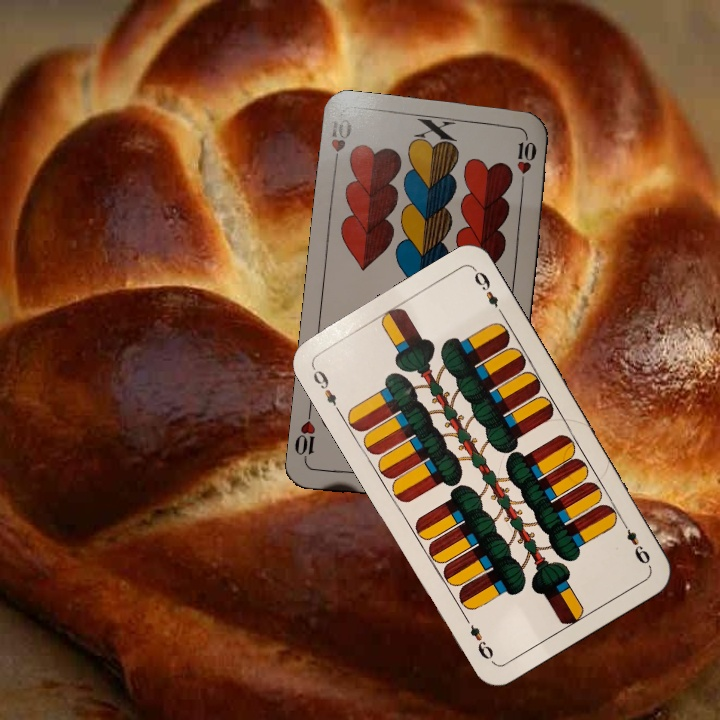E9: (308, 362, 344, 416), (617, 516, 653, 569)
H10: (327, 114, 355, 173)
